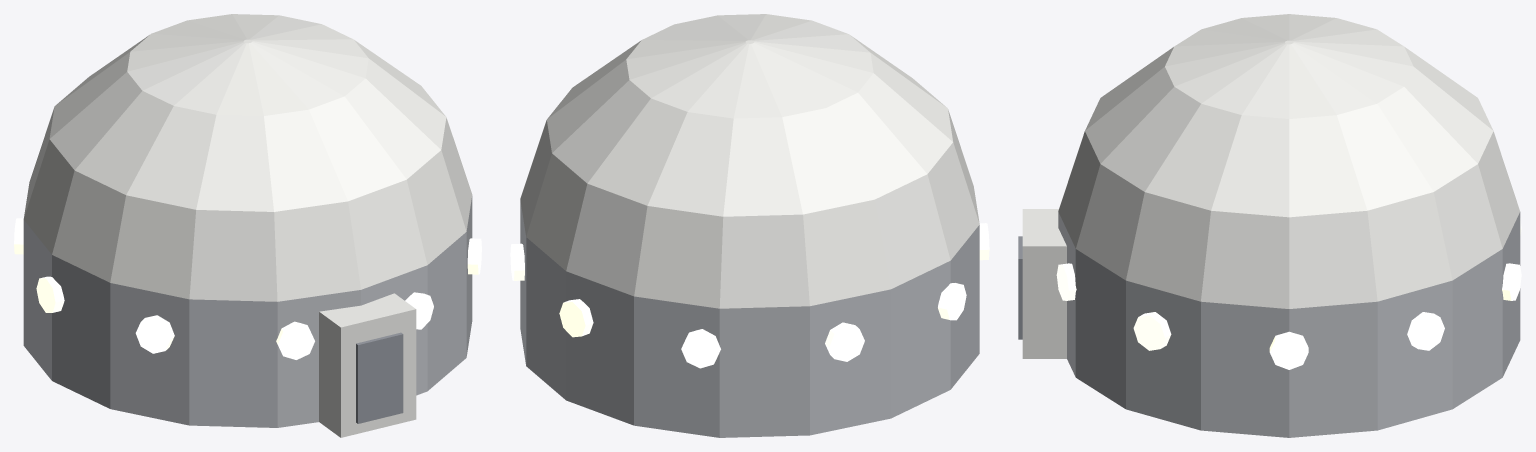
Rendered from arena_habitat.glb.
3 views of the same model, side by side, from view 1: azimuth 30°, elevation 25°; view 2: azimuth 150°, elevation 25°; view 3: azimuth 270°, elevation 25° (orthographic). The views are drawn at different scales.
Parts seen in each view (by area): view 1: arena_habitat; view 2: arena_habitat; view 3: arena_habitat.
Boxes of the visible parts, x1,y1,x2,y2 form: arena_habitat: (14,14,481,437); arena_habitat: (510,14,989,437); arena_habitat: (1018,14,1521,437).
Bounding box in the file's own units: 5.36 × 3.7 × 5.67.
